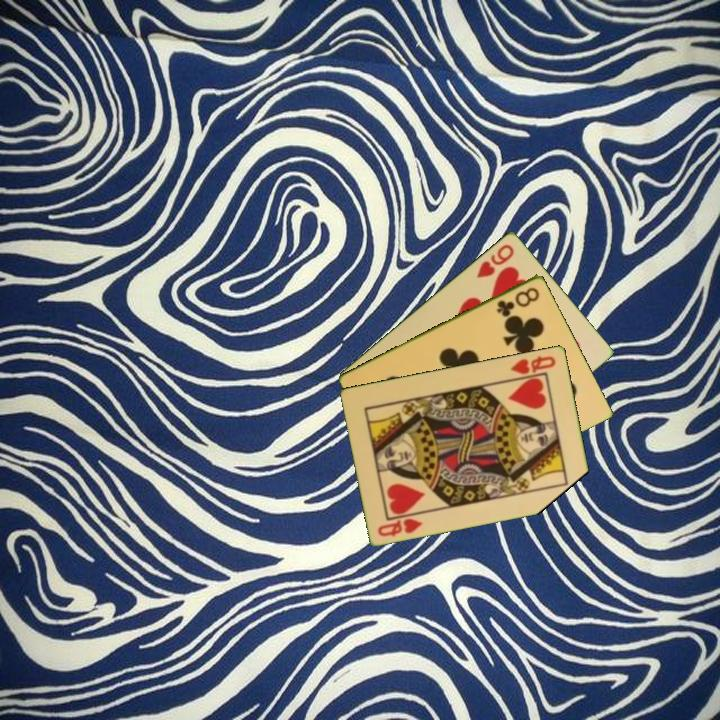8c: (493, 283, 542, 319)
9h: (473, 240, 517, 281)
Qh: (507, 352, 559, 377), (374, 514, 425, 539)
